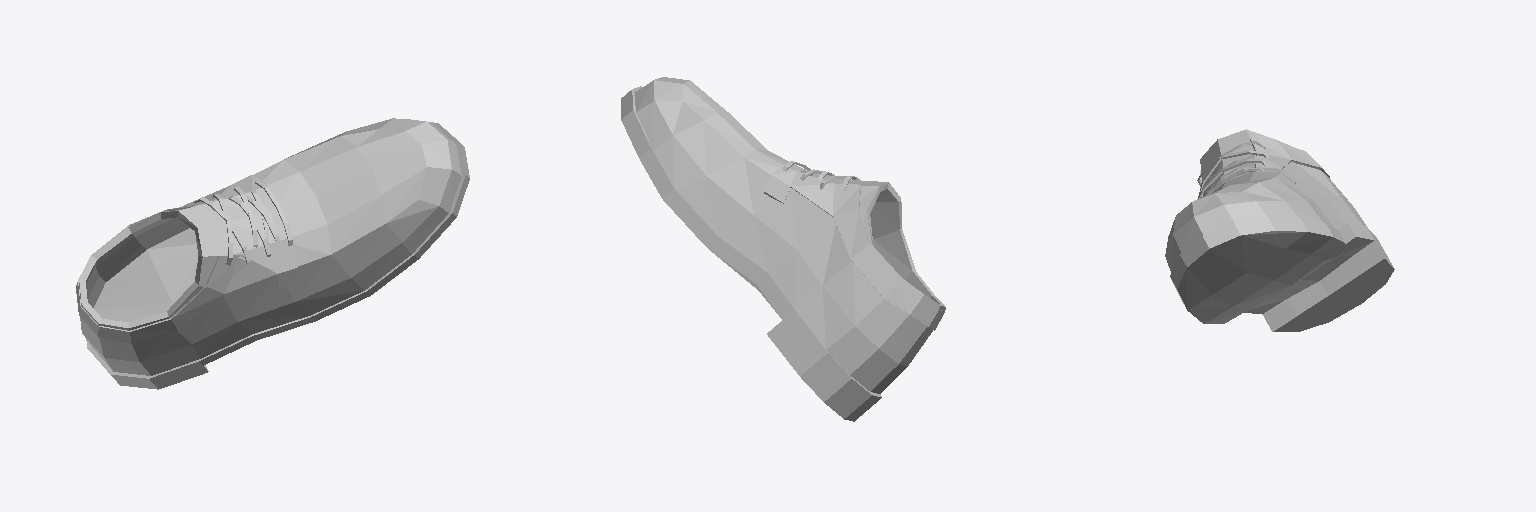
3 renders of one model, left to right at view 1: azimuth 30°, elevation 25°; view 2: azimuth 150°, elevation 25°; view 3: azimuth 270°, elevation 25°, orthographic.
Parts seen in each view (by area): view 1: shoes.011; view 2: shoes.011; view 3: shoes.011.
Part boxes in pixels (left/top/right/bottom): shoes.011: left=76, top=118, right=469, bottom=389; shoes.011: left=621, top=77, right=945, bottom=421; shoes.011: left=1165, top=129, right=1394, bottom=331.
Bounding box in the file's own units: 0.7864 × 0.5216 × 0.4506.